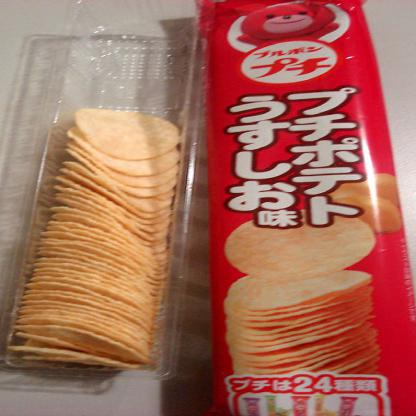potatochip: (195, 0, 416, 415)
